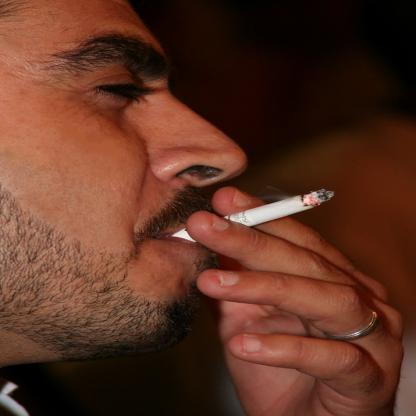smoking: (171, 189, 335, 242)
